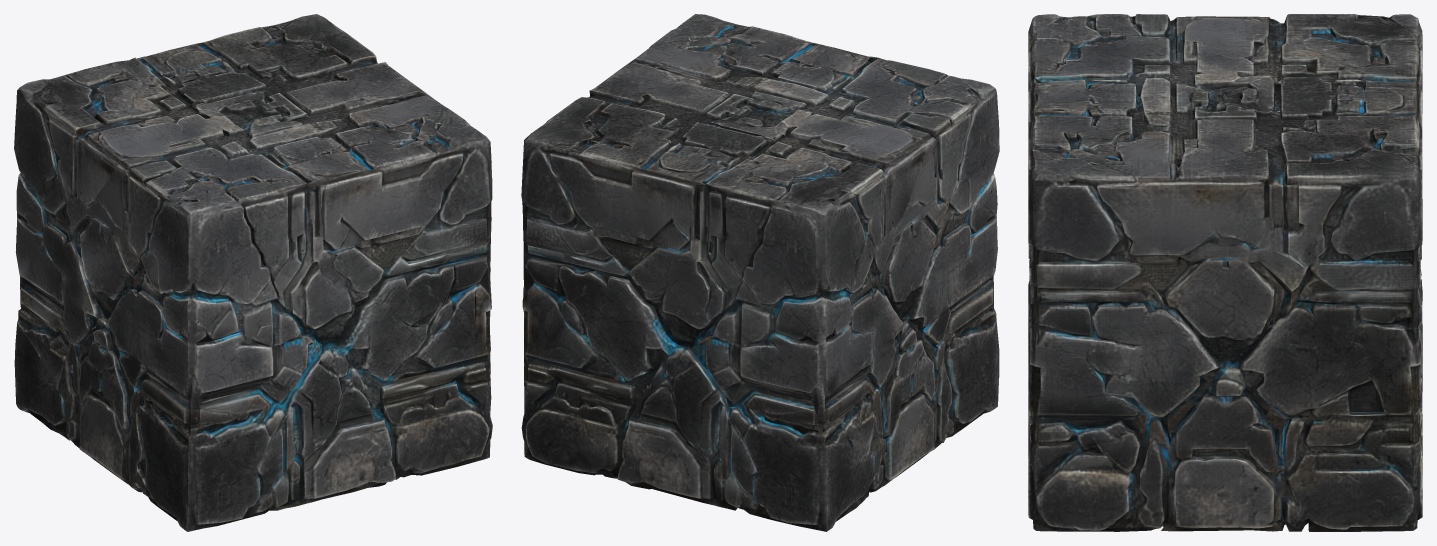
The model's file is platform-slab.glb.
3 views of the same model, side by side, from view 1: azimuth 30°, elevation 25°; view 2: azimuth 150°, elevation 25°; view 3: azimuth 270°, elevation 25° (orthographic). The views are drawn at different scales.
Visible parts, largest first — view 1: world; view 2: world; view 3: world.
Part boxes in pixels (x1,y1,x2,y2): world: [14, 14, 492, 531]; world: [521, 14, 999, 531]; world: [1028, 14, 1422, 531].
Size of the model in its own units: 0.3 by 0.3001 by 0.3002.
Materials: 1 (1 with a texture image).
